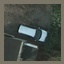car: (19, 24, 48, 42)
